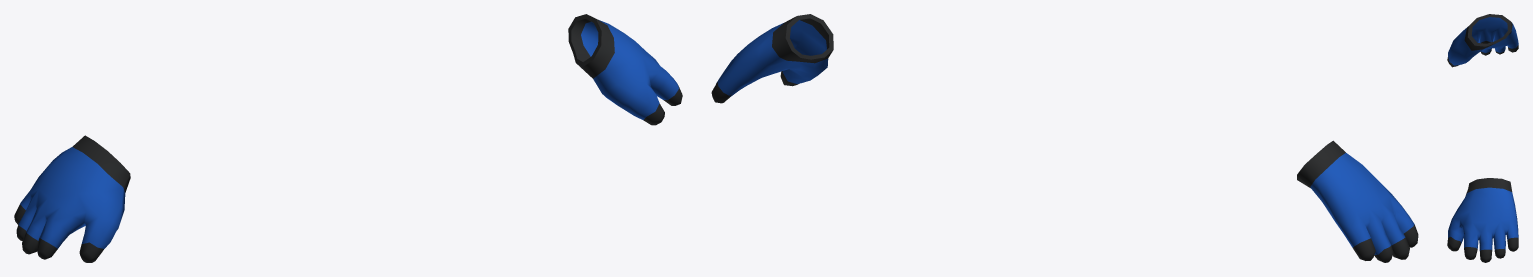
File: Gloves_03.glb
3 views of the same model, side by side, from view 1: azimuth 30°, elevation 25°; view 2: azimuth 150°, elevation 25°; view 3: azimuth 270°, elevation 25° (orthographic). The views are drawn at different scales.
Parts seen in each view (by area): view 1: Gloves_03; view 2: Gloves_03; view 3: Gloves_03.
Part boxes in pixels (x1,y1,x2,y2): Gloves_03: [14, 14, 682, 262]; Gloves_03: [711, 14, 1418, 262]; Gloves_03: [1447, 14, 1518, 262].
Size of the model in its own units: 0.8285 by 0.1151 by 0.1179.
Materials: 1 (1 with a texture image).
